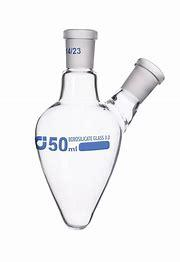Pear shaped flask: (29, 31, 159, 224)
